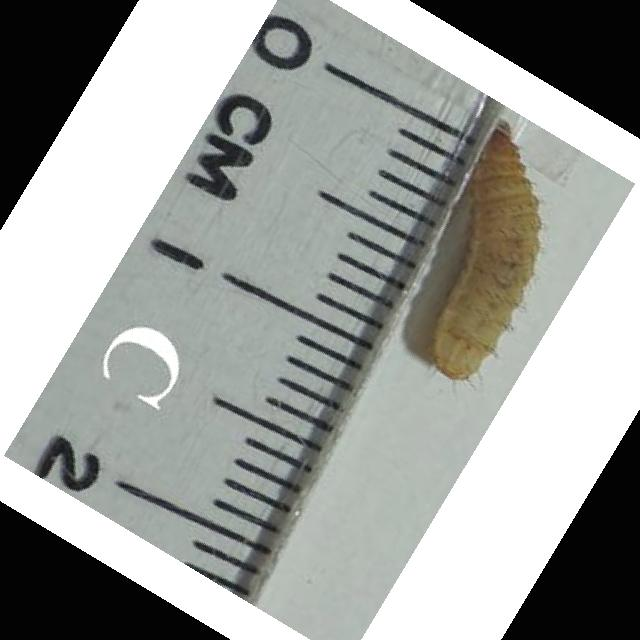Maggot: (426, 120, 550, 379)
